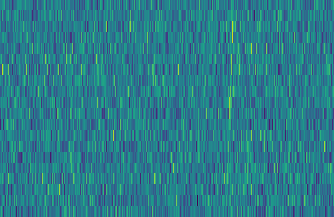signal: (222, 0, 239, 217)
